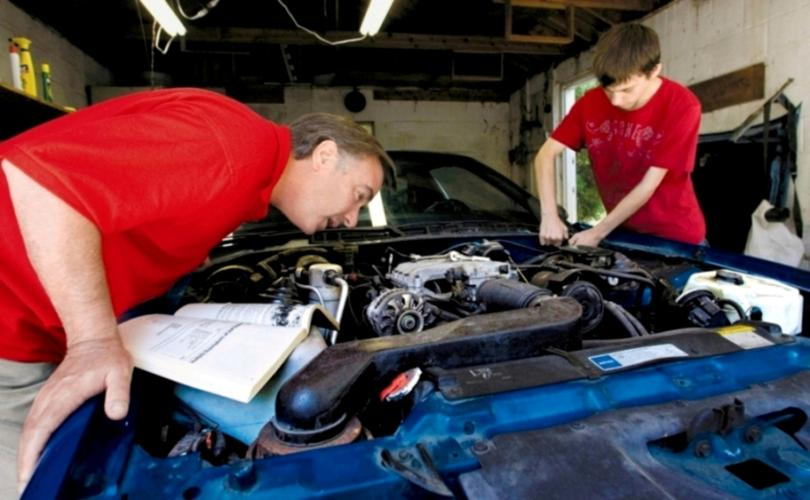person: (533, 23, 706, 250)
